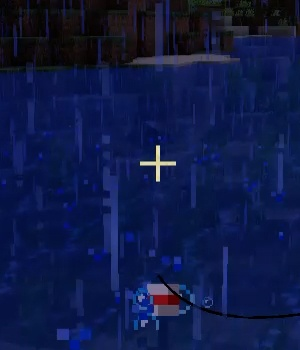up: (143, 280, 182, 328)
